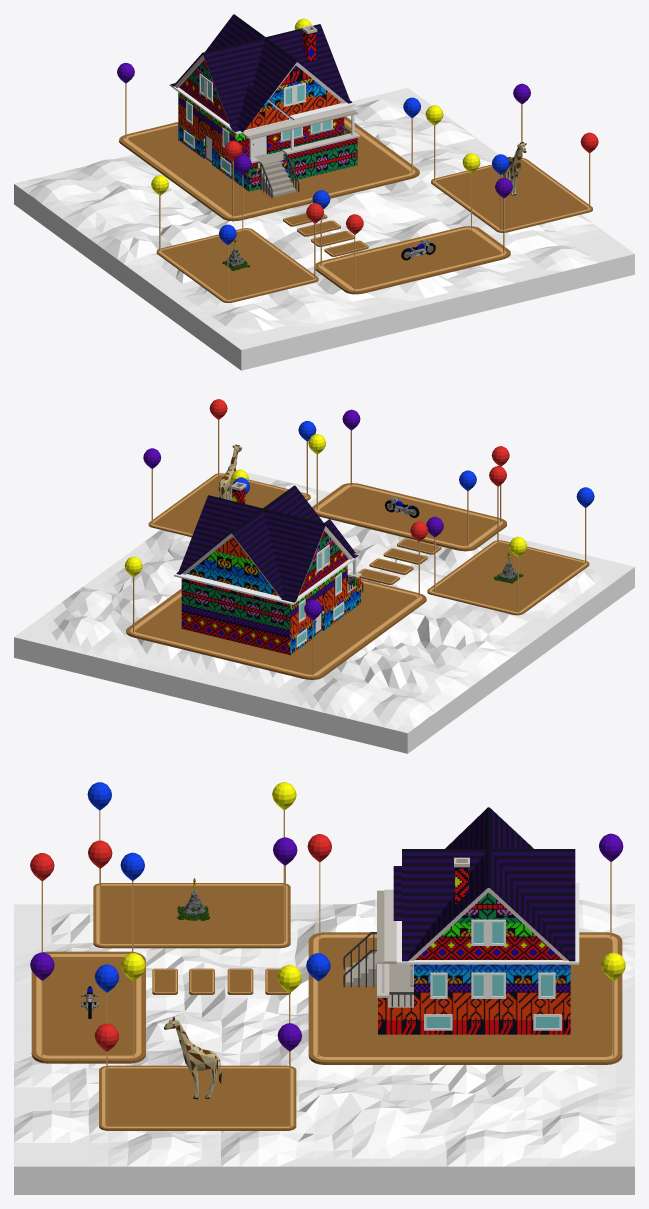
3 views of the same model, one above another, from view 1: azimuth 30°, elevation 25°; view 2: azimuth 150°, elevation 25°; view 3: azimuth 270°, elevation 25° (orthographic). The views are drawn at different scales.
Visible parts, largest first — view 1: Cube.013, Cube.966, ANIMAL_JIRAFA; view 2: Cube.013, Cube.966, ANIMAL_JIRAFA; view 3: Cube.013, Cube.966, ANIMAL_JIRAFA, OBJRANDOM_SWORD_IN_THE_STONE.
Boxes of the visible parts, box(x1,y1,x2,y2) form: Cube.013: box(14, 18, 634, 370); Cube.966: box(169, 14, 360, 198); ANIMAL_JIRAFA: box(503, 142, 526, 195); Cube.013: box(14, 399, 634, 753); Cube.966: box(174, 482, 363, 655); ANIMAL_JIRAFA: box(218, 444, 242, 500); Cube.013: box(14, 782, 634, 1194); Cube.966: box(343, 807, 579, 1034); ANIMAL_JIRAFA: box(164, 1017, 221, 1099); OBJRANDOM_SWORD_IN_THE_STONE: box(175, 878, 209, 920).
Bounding box in the file's own units: 4000 × 1688 × 4000.
Materials: 47 (5 with a texture image).
